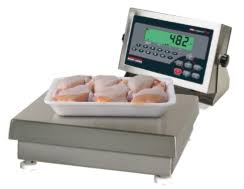Industrial Scale: (8, 7, 232, 184)
